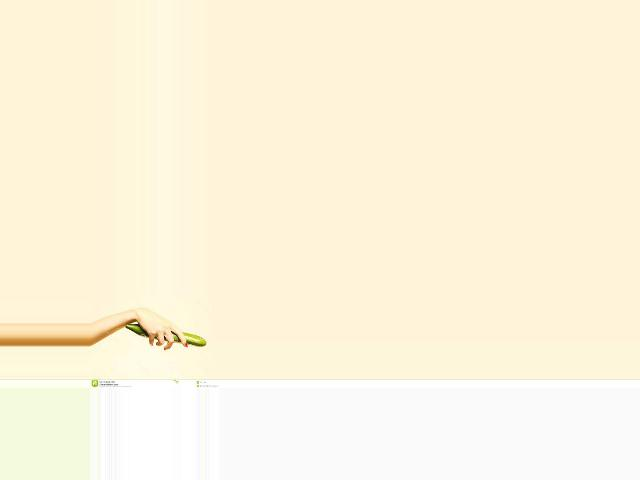cucumber: (124, 324, 206, 347)
